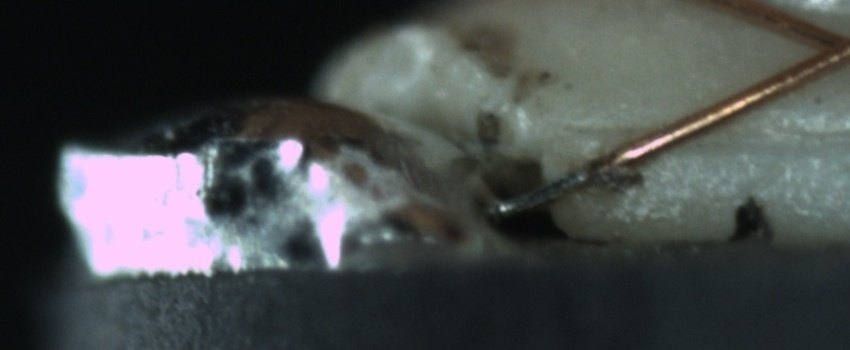CL: (795, 13, 850, 77)
DL: (611, 100, 844, 175)
TS: (494, 163, 598, 219)
TTCW: (497, 147, 643, 220)
